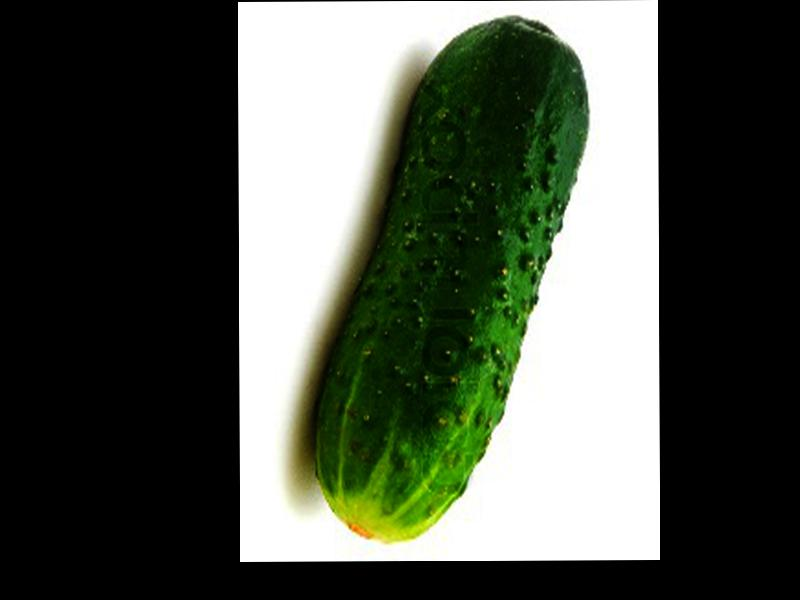Cucumber: (311, 19, 591, 543)
